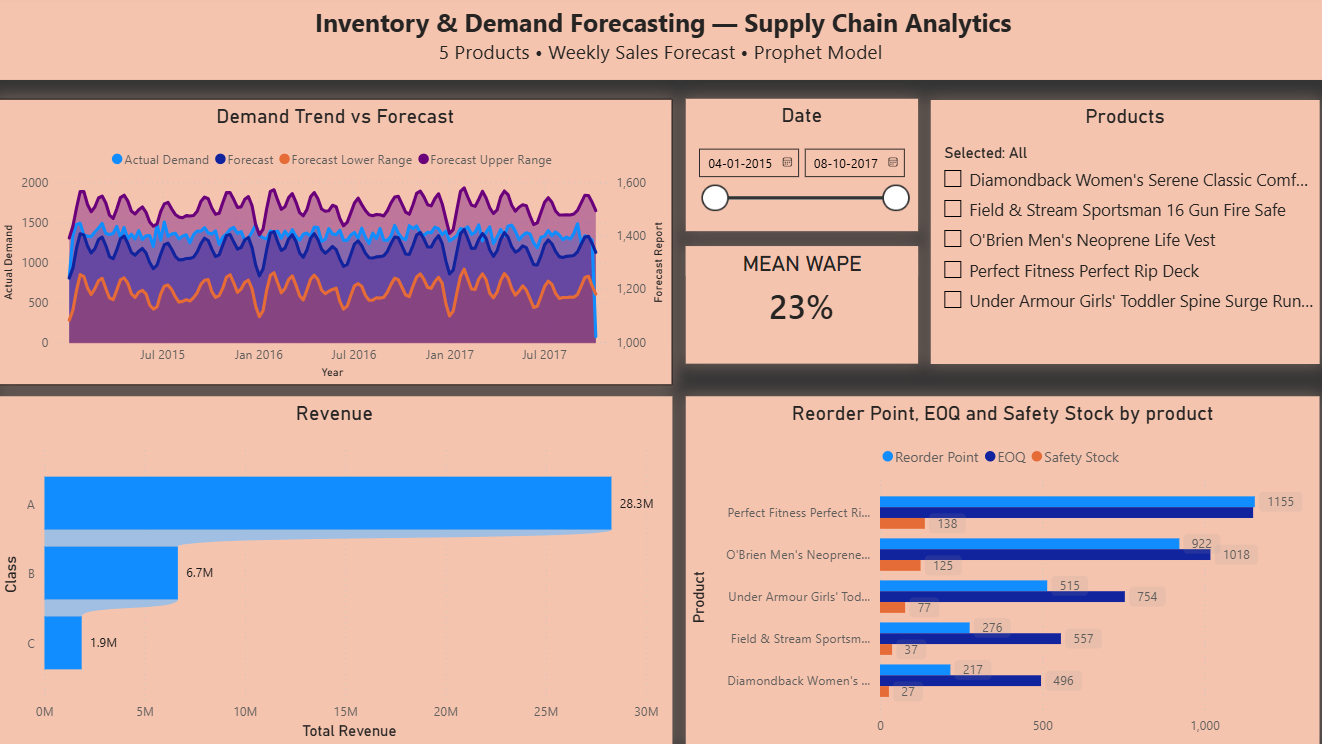

Layout of this report page (visuals, bound fields, positions):
{"tool":"powerbi","page":{"name":"Page 1","canvas":[1280,720],"ordinal":0},"visuals":[{"type":"areaChart","title":"Demand Trend vs Forecast","fields":{"Category":["forecast_combined.ds.Variation.Date Hierarchy.Year","forecast_combined.ds.Variation.Date Hierarchy.Quarter","forecast_combined.ds.Variation.Date Hierarchy.Month","forecast_combined.ds.Variation.Date Hierarchy.Day"],"Y":["Sum(forecast_combined.actual_demand)"],"Y2":["Sum(forecast_combined.forecast)","Sum(forecast_combined.yhat_lower)","Sum(forecast_combined.yhat_upper)"]},"box":[0,99.7,648.4,275],"z":0},{"type":"slicer","title":"Products","fields":{"Values":["forecast_combined.product"]},"box":[897,100.9,373.4,253.4],"z":1000},{"type":"barChart","title":"Revenue","fields":{"Category":["abc_classification.class"],"Y":["Sum(abc_classification.revenue)"]},"box":[0,385.4,648.4,335],"z":2000},{"type":"slicer","title":"Date","fields":{"Values":["forecast_combined.ds"]},"box":[661.6,99.7,223.3,127.3],"z":3000},{"type":"clusteredBarChart","fields":{"Category":["inventory_summary.product"],"Y":["Sum(inventory_summary.reorder_point)","Sum(inventory_summary.eoq)","Sum(inventory_summary.safety_stock)"]},"box":[661.6,385.4,608.8,335],"z":4000},{"type":"cardVisual","title":"MEAN WAPE ","fields":{"Data":["Avg(inventory_summary_wape.wape)"]},"box":[661.6,241.4,223.3,112.9],"z":5000},{"type":"textbox","box":[0,4.8,1280,76.8],"z":5001}]}

Visuals, with their boxes in screenshot pixels (x1, y1, x2, y2), scaled from the page's 1280x720 canvas onto the 1322x744 screenshot:
"Demand Trend vs Forecast" areaChart: [0, 103, 670, 387]
"Products" slicer: [926, 104, 1312, 366]
"Revenue" barChart: [0, 398, 670, 743]
"Date" slicer: [683, 103, 914, 235]
clusteredBarChart - inventory_summary.product x Sum(inventory_summary.reorder_point): [683, 398, 1312, 743]
"MEAN WAPE " cardVisual: [683, 249, 914, 366]
textbox: [0, 5, 1321, 84]
